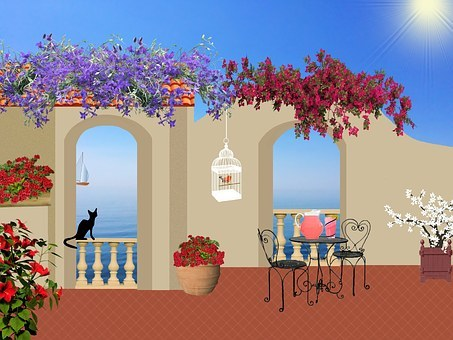boat: (72, 150, 92, 187)
cat: (62, 206, 100, 250)
chair: (254, 226, 315, 315), (329, 218, 371, 298)
diningtable: (287, 233, 349, 306)
pottedplant: (383, 185, 453, 282), (170, 234, 225, 297)
